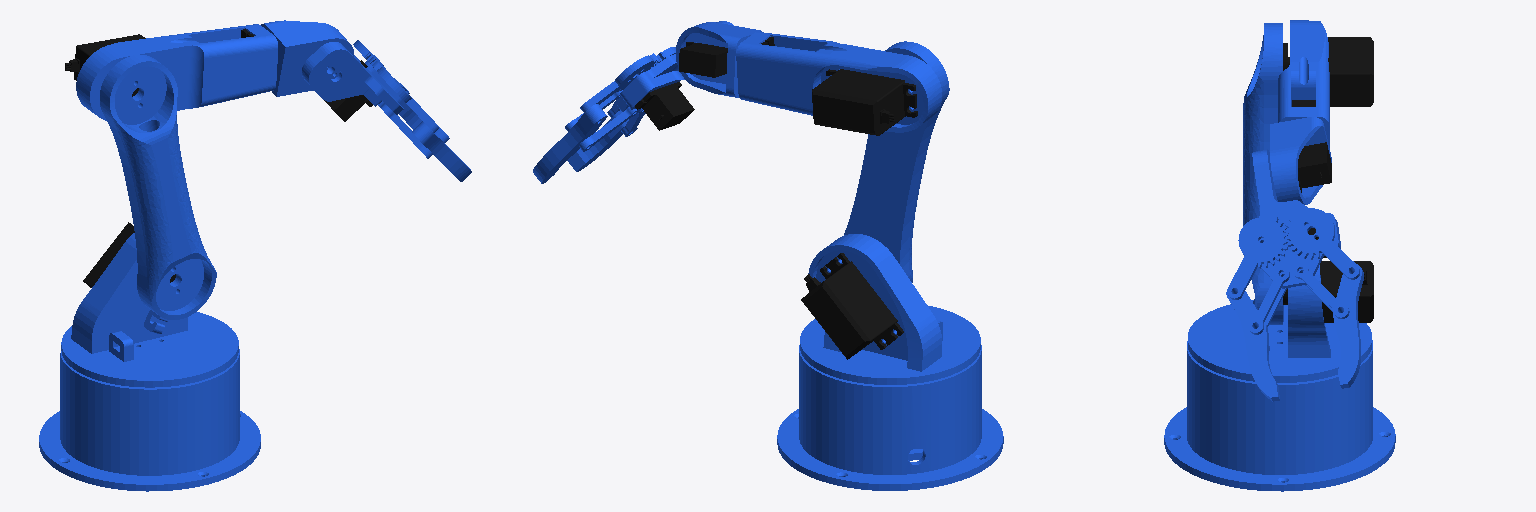
The robot description file, URDF, robot "robotic_arm":
<?xml version="1.0"?>
<robot name="robotic_arm">
  <!-- Generated from Robotic_Arm_3D_Model.STEP. Zero pose = pose stored in the STEP file. -->
  <link name="base_link">
    <inertial><origin xyz="0.002889 -0.002710 0.026701" rpy="0 0 0"/><mass value="0.09073"/>
      <inertia ixx="5.1909e-05" ixy="2.8476e-06" ixz="-2.1933e-06" iyy="5.2274e-05" iyz="2.0574e-06" izz="7.9892e-05"/></inertial>
    <visual><geometry><mesh filename="package://robotic_arm_description/meshes/base_link_printed.stl"/></geometry><material name="base_link_printed"><color rgba="0.20 0.45 0.95 1"/></material></visual>
    <collision><geometry><mesh filename="package://robotic_arm_description/meshes/base_link_printed.stl"/></geometry></collision>
    <visual><geometry><mesh filename="package://robotic_arm_description/meshes/base_link_servo.stl"/></geometry><material name="base_link_servo"><color rgba="0.12 0.12 0.12 1"/></material></visual>
    <collision><geometry><mesh filename="package://robotic_arm_description/meshes/base_link_servo.stl"/></geometry></collision>
  </link>
  <link name="waist">
    <inertial><origin xyz="0.003724 0.023087 0.033027" rpy="0 0 0"/><mass value="0.08031"/>
      <inertia ixx="3.0558e-05" ixy="-2.3606e-06" ixz="-3.8576e-06" iyy="2.7248e-05" iyz="-8.2409e-06" izz="3.0075e-05"/></inertial>
    <visual><geometry><mesh filename="package://robotic_arm_description/meshes/waist_printed.stl"/></geometry><material name="waist_printed"><color rgba="0.20 0.45 0.95 1"/></material></visual>
    <collision><geometry><mesh filename="package://robotic_arm_description/meshes/waist_printed.stl"/></geometry></collision>
    <visual><geometry><mesh filename="package://robotic_arm_description/meshes/waist_servo.stl"/></geometry><material name="waist_servo"><color rgba="0.12 0.12 0.12 1"/></material></visual>
    <collision><geometry><mesh filename="package://robotic_arm_description/meshes/waist_servo.stl"/></geometry></collision>
  </link>
  <link name="arm_01">
    <inertial><origin xyz="-0.010322 -0.011968 0.058767" rpy="0 0 0"/><mass value="0.02395"/>
      <inertia ixx="3.9595e-05" ixy="1.8123e-08" ixz="7.0211e-06" iyy="4.2799e-05" iyz="-4.7791e-08" izz="4.8010e-06"/></inertial>
    <visual><geometry><mesh filename="package://robotic_arm_description/meshes/arm_01_printed.stl"/></geometry><material name="arm_01_printed"><color rgba="0.20 0.45 0.95 1"/></material></visual>
    <collision><geometry><mesh filename="package://robotic_arm_description/meshes/arm_01_printed.stl"/></geometry></collision>
  </link>
  <link name="arm_02">
    <inertial><origin xyz="0.021499 0.017348 -0.001328" rpy="0 0 0"/><mass value="0.08270"/>
      <inertia ixx="9.2765e-06" ixy="1.2203e-05" ixz="3.5044e-06" iyy="6.0444e-05" iyz="-7.4613e-07" izz="6.3856e-05"/></inertial>
    <visual><geometry><mesh filename="package://robotic_arm_description/meshes/arm_02_printed.stl"/></geometry><material name="arm_02_printed"><color rgba="0.20 0.45 0.95 1"/></material></visual>
    <collision><geometry><mesh filename="package://robotic_arm_description/meshes/arm_02_printed.stl"/></geometry></collision>
    <visual><geometry><mesh filename="package://robotic_arm_description/meshes/arm_02_servo.stl"/></geometry><material name="arm_02_servo"><color rgba="0.12 0.12 0.12 1"/></material></visual>
    <collision><geometry><mesh filename="package://robotic_arm_description/meshes/arm_02_servo.stl"/></geometry></collision>
  </link>
  <link name="arm_03">
    <inertial><origin xyz="0.022906 -0.001897 0.001714" rpy="0 0 0"/><mass value="0.01514"/>
      <inertia ixx="1.2611e-06" ixy="6.7659e-08" ixz="5.5992e-08" iyy="2.0579e-06" iyz="3.7874e-08" izz="1.8521e-06"/></inertial>
    <visual><geometry><mesh filename="package://robotic_arm_description/meshes/arm_03_printed.stl"/></geometry><material name="arm_03_printed"><color rgba="0.20 0.45 0.95 1"/></material></visual>
    <collision><geometry><mesh filename="package://robotic_arm_description/meshes/arm_03_printed.stl"/></geometry></collision>
    <visual><geometry><mesh filename="package://robotic_arm_description/meshes/arm_03_servo.stl"/></geometry><material name="arm_03_servo"><color rgba="0.12 0.12 0.12 1"/></material></visual>
    <collision><geometry><mesh filename="package://robotic_arm_description/meshes/arm_03_servo.stl"/></geometry></collision>
  </link>
  <link name="gripper_base">
    <inertial><origin xyz="0.023128 0.011520 -0.022446" rpy="0 0 0"/><mass value="0.01485"/>
      <inertia ixx="3.1237e-06" ixy="-8.0527e-07" ixz="1.1665e-06" iyy="3.3537e-06" iyz="1.0506e-06" izz="3.2723e-06"/></inertial>
    <visual><geometry><mesh filename="package://robotic_arm_description/meshes/gripper_base_printed.stl"/></geometry><material name="gripper_base_printed"><color rgba="0.20 0.45 0.95 1"/></material></visual>
    <collision><geometry><mesh filename="package://robotic_arm_description/meshes/gripper_base_printed.stl"/></geometry></collision>
    <visual><geometry><mesh filename="package://robotic_arm_description/meshes/gripper_base_servo.stl"/></geometry><material name="gripper_base_servo"><color rgba="0.12 0.12 0.12 1"/></material></visual>
    <collision><geometry><mesh filename="package://robotic_arm_description/meshes/gripper_base_servo.stl"/></geometry></collision>
  </link>
  <link name="gripper_gear2">
    <inertial><origin xyz="0.003210 0.003448 -0.003206" rpy="0 0 0"/><mass value="0.00095"/>
      <inertia ixx="1.2626e-07" ixy="-4.0511e-08" ixz="3.9969e-08" iyy="8.4372e-08" iyz="3.2227e-08" izz="1.2360e-07"/></inertial>
    <visual><geometry><mesh filename="package://robotic_arm_description/meshes/gripper_gear2_printed.stl"/></geometry><material name="gripper_gear2_printed"><color rgba="0.20 0.45 0.95 1"/></material></visual>
    <collision><geometry><mesh filename="package://robotic_arm_description/meshes/gripper_gear2_printed.stl"/></geometry></collision>
  </link>
  <link name="finger_2">
    <inertial><origin xyz="0.016830 -0.002590 -0.021295" rpy="0 0 0"/><mass value="0.00201"/>
      <inertia ixx="3.9852e-07" ixy="6.3665e-09" ixz="2.9435e-07" iyy="6.2677e-07" iyz="-9.9174e-09" izz="2.7155e-07"/></inertial>
    <visual><geometry><mesh filename="package://robotic_arm_description/meshes/finger_2_printed.stl"/></geometry><material name="finger_2_printed"><color rgba="0.20 0.45 0.95 1"/></material></visual>
    <collision><geometry><mesh filename="package://robotic_arm_description/meshes/finger_2_printed.stl"/></geometry></collision>
  </link>
  <link name="rocker_2">
    <inertial><origin xyz="0.008170 0.010627 -0.007784" rpy="0 0 0"/><mass value="0.00059"/>
      <inertia ixx="6.6055e-08" ixy="-2.4390e-08" ixz="8.9156e-09" iyy="6.4620e-08" iyz="2.7233e-08" izz="7.2515e-08"/></inertial>
    <visual><geometry><mesh filename="package://robotic_arm_description/meshes/rocker_2_printed.stl"/></geometry><material name="rocker_2_printed"><color rgba="0.20 0.45 0.95 1"/></material></visual>
    <collision><geometry><mesh filename="package://robotic_arm_description/meshes/rocker_2_printed.stl"/></geometry></collision>
  </link>
  <link name="gripper_gear1">
    <inertial><origin xyz="0.003088 -0.001996 -0.004238" rpy="0 0 0"/><mass value="0.00098"/>
      <inertia ixx="1.2823e-07" ixy="2.1449e-08" ixz="5.1474e-08" iyy="1.1231e-07" iyz="-3.8127e-08" izz="9.4548e-08"/></inertial>
    <visual><geometry><mesh filename="package://robotic_arm_description/meshes/gripper_gear1_printed.stl"/></geometry><material name="gripper_gear1_printed"><color rgba="0.20 0.45 0.95 1"/></material></visual>
    <collision><geometry><mesh filename="package://robotic_arm_description/meshes/gripper_gear1_printed.stl"/></geometry></collision>
  </link>
  <link name="finger_1">
    <inertial><origin xyz="0.017092 0.009522 -0.018990" rpy="0 0 0"/><mass value="0.00201"/>
      <inertia ixx="3.9369e-07" ixy="-1.0550e-07" ixz="2.7603e-07" iyy="5.8126e-07" iyz="1.1802e-07" izz="3.2189e-07"/></inertial>
    <visual><geometry><mesh filename="package://robotic_arm_description/meshes/finger_1_printed.stl"/></geometry><material name="finger_1_printed"><color rgba="0.20 0.45 0.95 1"/></material></visual>
    <collision><geometry><mesh filename="package://robotic_arm_description/meshes/finger_1_printed.stl"/></geometry></collision>
  </link>
  <link name="rocker_1">
    <inertial><origin xyz="0.008004 -0.006847 -0.011371" rpy="0 0 0"/><mass value="0.00059"/>
      <inertia ixx="6.6879e-08" ixy="1.9163e-08" ixz="1.7351e-08" iyy="8.4878e-08" iyz="-2.2026e-08" izz="5.1432e-08"/></inertial>
    <visual><geometry><mesh filename="package://robotic_arm_description/meshes/rocker_1_printed.stl"/></geometry><material name="rocker_1_printed"><color rgba="0.20 0.45 0.95 1"/></material></visual>
    <collision><geometry><mesh filename="package://robotic_arm_description/meshes/rocker_1_printed.stl"/></geometry></collision>
  </link>
  <joint name="waist_joint" type="revolute">
    <parent link="base_link"/><child link="waist"/>
    <origin xyz="0.000000 0.000000 0.052400" rpy="0 0 0"/>
    <axis xyz="0.000000 0.000000 1.000000"/>
    <limit lower="-1.5708" upper="1.5708" effort="2.0" velocity="5.0"/>
  </joint>
  <joint name="shoulder_joint" type="revolute">
    <parent link="waist"/><child link="arm_01"/>
    <origin xyz="0.010998 0.007307 0.043703" rpy="0 0 0"/>
    <axis xyz="0.000000 1.000000 0.000000"/>
    <limit lower="-1.5708" upper="1.5708" effort="1.0" velocity="5.0"/>
  </joint>
  <joint name="elbow_joint" type="revolute">
    <parent link="arm_01"/><child link="arm_02"/>
    <origin xyz="-0.020388 -0.000000 0.118878" rpy="0 0 0"/>
    <axis xyz="-0.000000 1.000000 0.000000"/>
    <limit lower="-1.5708" upper="1.5708" effort="1.0" velocity="5.0"/>
  </joint>
  <joint name="wrist_roll_joint" type="revolute">
    <parent link="arm_02"/><child link="arm_03"/>
    <origin xyz="0.087651 0.006500 -0.008967" rpy="0 0 0"/>
    <axis xyz="0.998036 -0.000000 -0.062647"/>
    <limit lower="-1.5708" upper="1.5708" effort="0.18" velocity="4.0"/>
  </joint>
  <joint name="wrist_pitch_joint" type="revolute">
    <parent link="arm_03"/><child link="gripper_base"/>
    <origin xyz="0.028041 -0.014418 -0.001160" rpy="0 0 0"/>
    <axis xyz="0.012395 0.980232 0.197462"/>
    <limit lower="-1.5708" upper="1.5708" effort="0.18" velocity="4.0"/>
  </joint>
  <joint name="gripper_joint" type="revolute">
    <parent link="gripper_base"/><child link="gripper_gear2"/>
    <origin xyz="0.041066 0.018764 -0.013432" rpy="0 0 0"/>
    <axis xyz="0.769249 -0.135511 0.624414"/>
    <limit lower="-0.5500" upper="0.8000" effort="0.18" velocity="4.0"/>
  </joint>
  <joint name="finger_2_joint" type="revolute">
    <parent link="gripper_gear2"/><child link="finger_2"/>
    <origin xyz="0.011432 0.021908 -0.019338" rpy="0 0 0"/>
    <axis xyz="0.769249 -0.135511 0.624414"/>
    <limit lower="-0.8000" upper="0.5500" effort="0.18" velocity="4.0"/>
    <mimic joint="gripper_joint" multiplier="-1" offset="0"/>
  </joint>
  <joint name="rocker_2_joint" type="revolute">
    <parent link="gripper_base"/><child link="rocker_2"/>
    <origin xyz="0.048936 0.013768 -0.034197" rpy="0 0 0"/>
    <axis xyz="0.769249 -0.135511 0.624414"/>
    <limit lower="-0.5500" upper="0.8000" effort="0.18" velocity="4.0"/>
    <mimic joint="gripper_joint" multiplier="1" offset="0"/>
  </joint>
  <joint name="gripper_gear1_joint" type="revolute">
    <parent link="gripper_base"/><child link="gripper_gear1"/>
    <origin xyz="0.040732 -0.007604 -0.018744" rpy="0 0 0"/>
    <axis xyz="0.769249 -0.135511 0.624414"/>
    <limit lower="-0.8000" upper="0.5500" effort="0.18" velocity="4.0"/>
    <mimic joint="gripper_joint" multiplier="-1" offset="0"/>
  </joint>
  <joint name="finger_1_joint" type="revolute">
    <parent link="gripper_gear1"/><child link="finger_1"/>
    <origin xyz="0.010949 -0.013080 -0.026337" rpy="0 0 0"/>
    <axis xyz="0.769249 -0.135511 0.624414"/>
    <limit lower="-0.5500" upper="0.8000" effort="0.18" velocity="4.0"/>
    <mimic joint="gripper_joint" multiplier="1" offset="0"/>
  </joint>
  <joint name="rocker_1_joint" type="revolute">
    <parent link="gripper_base"/><child link="rocker_1"/>
    <origin xyz="0.048812 0.003966 -0.036172" rpy="0 0 0"/>
    <axis xyz="0.769249 -0.135511 0.624414"/>
    <limit lower="-0.8000" upper="0.5500" effort="0.18" velocity="4.0"/>
    <mimic joint="gripper_joint" multiplier="-1" offset="0"/>
  </joint>
  <link name="gripper_tip"/>
  <joint name="gripper_tip_joint" type="fixed">
    <parent link="gripper_base"/><child link="gripper_tip"/>
    <origin xyz="0.089361 0.017610 -0.083189" rpy="0 0 0"/>
  </joint>
</robot>

--- Render facts (derived) ---
3 views of the same robot in one strip: view 1: azimuth 30°, elevation 25°; view 2: azimuth 150°, elevation 25°; view 3: azimuth 270°, elevation 25° (orthographic).
Robot: robotic_arm — 13 links, 12 joints (11 revolute, 1 fixed); root link base_link; default pose: every joint at zero.
Links seen in each view (by area): view 1: base_link, arm_01, waist, arm_02, gripper_base, arm_03, finger_1, gripper_gear1, rocker_1, finger_2; view 2: base_link, waist, arm_02, arm_01, arm_03, gripper_base, finger_2, gripper_gear2, finger_1, rocker_2; view 3: base_link, waist, arm_02, arm_01, arm_03, gripper_base, gripper_gear1, gripper_gear2, finger_2, finger_1, rocker_1, rocker_2.
Link boxes in pixels (x1=…): base_link: x1=39, y1=349, x2=260, y2=491; arm_01: x1=100, y1=55, x2=216, y2=333; waist: x1=61, y1=222, x2=238, y2=387; arm_02: x1=65, y1=24, x2=277, y2=120; gripper_base: x1=302, y1=42, x2=403, y2=121; arm_03: x1=261, y1=20, x2=353, y2=96; finger_1: x1=412, y1=121, x2=471, y2=181; gripper_gear1: x1=373, y1=63, x2=438, y2=132; rocker_1: x1=381, y1=87, x2=449, y2=158; finger_2: x1=365, y1=61, x2=421, y2=129; base_link: x1=777, y1=345, x2=1003, y2=490; waist: x1=800, y1=234, x2=980, y2=384; arm_02: x1=736, y1=32, x2=941, y2=135; arm_01: x1=844, y1=41, x2=949, y2=282; arm_03: x1=676, y1=22, x2=761, y2=97; gripper_base: x1=617, y1=21, x2=733, y2=130; finger_2: x1=533, y1=104, x2=607, y2=183; gripper_gear2: x1=580, y1=53, x2=657, y2=112; finger_1: x1=567, y1=110, x2=645, y2=171; rocker_2: x1=565, y1=90, x2=640, y2=151; base_link: x1=1164, y1=340, x2=1395, y2=491; waist: x1=1188, y1=261, x2=1373, y2=382; arm_02: x1=1278, y1=20, x2=1373, y2=147; arm_01: x1=1243, y1=23, x2=1282, y2=324; arm_03: x1=1270, y1=117, x2=1331, y2=204; gripper_base: x1=1252, y1=149, x2=1340, y2=288; gripper_gear1: x1=1227, y1=217, x2=1288, y2=299; gripper_gear2: x1=1284, y1=208, x2=1359, y2=279; finger_2: x1=1333, y1=264, x2=1363, y2=388; finger_1: x1=1226, y1=290, x2=1279, y2=401; rocker_1: x1=1248, y1=266, x2=1289, y2=334; rocker_2: x1=1293, y1=263, x2=1349, y2=318.
Bounding box of the posed robot: 0.2616 × 0.1212 × 0.2361 m (x, y, z).
17 mesh visuals loaded from 17 distinct referenced files (17 binary STL).
